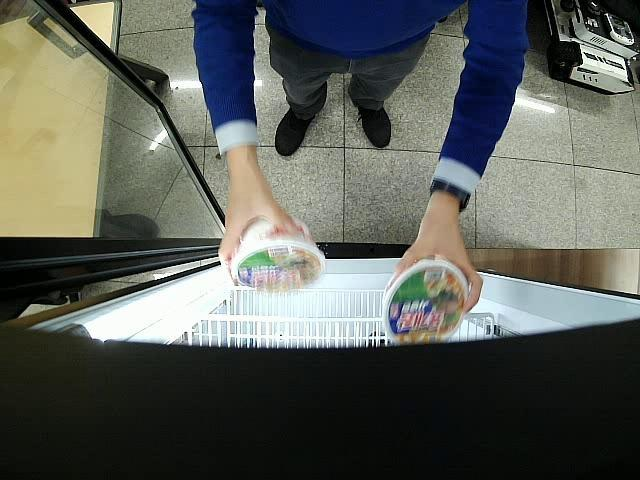09_yukGaeJang: (382, 260, 471, 344), (231, 218, 325, 290)
